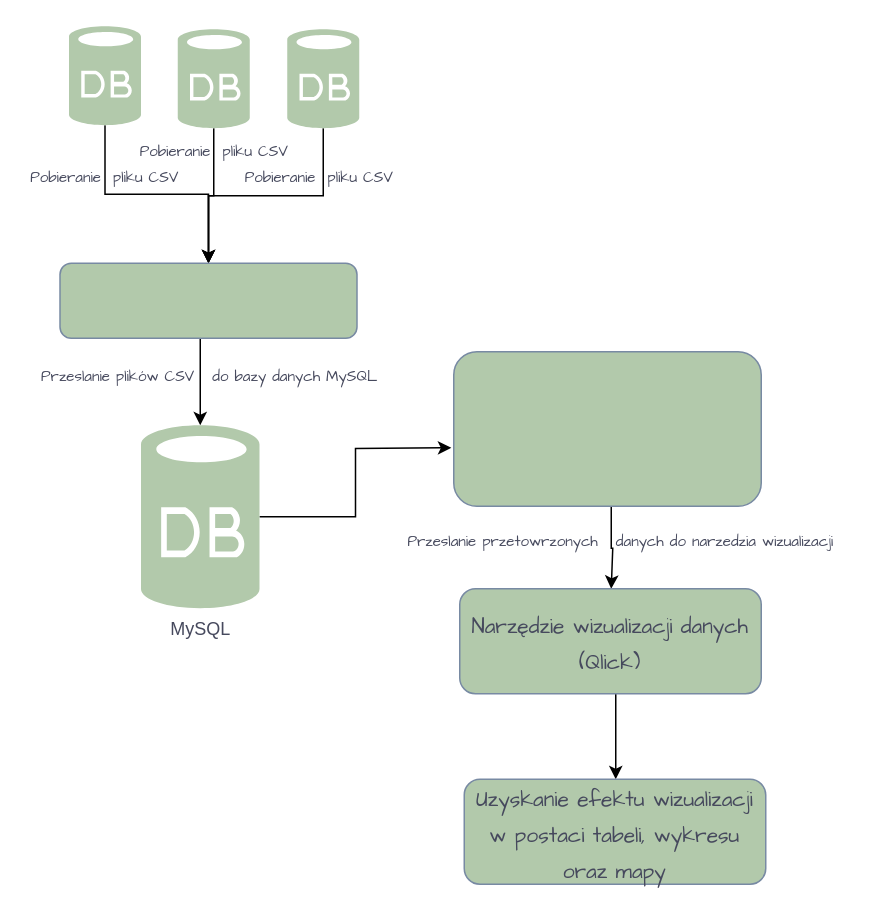
Image size: 872x911. Some labels were removed from this diagram. The centre of each missing label's shape, as x and y in pixels:
"ETL (ekstrakcja danych z plików CSV)" goes at (x=207, y=300).
"Przetwarzanie danych w MySQL (filtrowanie, grupowanie, łączenie)" goes at (x=606, y=428).
